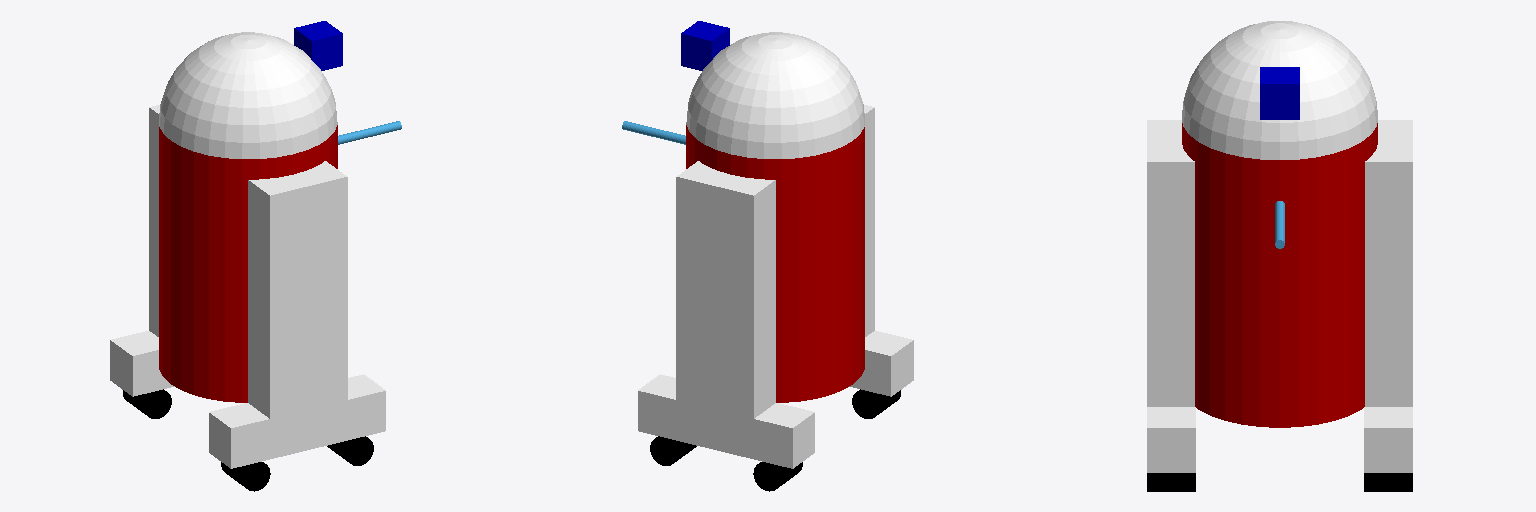
URDF robot description (visual):
<?xml version="1.0"?>
<robot name="visual">

<material name="blue">
    <color rgba="0 0 0.8 1"/>
  </material>
  <material name="black">
    <color rgba="0 0 0 1"/>
  </material>
  <material name="white">
    <color rgba="1 1 1 1"/>
  </material>
<material name="red">
    <color rgba="0.8 0 0 1"/>
  </material>
  <link name="base_link">
    <visual>
      <geometry>
        <cylinder length="0.6" radius="0.2"/>
      </geometry>
      <material name="red"/>
    </visual>
  </link>

  <link name="right_leg">
    <visual>
      <geometry>
        <box size="0.6 0.1 0.2"/>
      </geometry>
      <origin rpy="0 1.57075 0" xyz="0 0 -0.3"/>
      <material name="white"/>
    </visual>
  </link>

  <joint name="base_to_right_leg" type="fixed">
    <parent link="base_link"/>
    <child link="right_leg"/>
    <origin xyz="0 -0.22 0.25"/>
  </joint>

  <link name="right_base">
    <visual>
      <geometry>
        <box size="0.4 0.1 0.1"/>
      </geometry>
      <material name="white"/>
    </visual>
  </link>

  <joint name="right_base_joint" type="fixed">
    <parent link="right_leg"/>
    <child link="right_base"/>
    <origin xyz="0 0 -0.6"/>
  </joint>

  <link name="right_front_wheel">
    <visual>
      <origin rpy="1.57075 0 0" xyz="0 0 0"/>
      <geometry>
        <cylinder length="0.1" radius="0.035"/>
      </geometry>
      <material name="black"/>
    </visual>
  </link>
  <joint name="right_front_wheel_joint" type="continuous">
    <axis rpy="0 0 0" xyz="0 1 0"/>
    <parent link="right_base"/>
    <child link="right_front_wheel"/>
    <origin rpy="0 0 0" xyz="0.133333333333 0 -0.085"/>
  </joint>

  <link name="right_back_wheel">
    <visual>
      <origin rpy="1.57075 0 0" xyz="0 0 0"/>
      <geometry>
        <cylinder length="0.1" radius="0.035"/>
      </geometry>
      <material name="black"/>
    </visual>
  </link>
  <joint name="right_back_wheel_joint" type="continuous">
    <axis rpy="0 0 0" xyz="0 1 0"/>
    <parent link="right_base"/>
    <child link="right_back_wheel"/>
    <origin rpy="0 0 0" xyz="-0.133333333333 0 -0.085"/>
  </joint>

  <link name="left_leg">
    <visual>
      <geometry>
        <box size="0.6 0.1 0.2"/>
      </geometry>
      <origin rpy="0 1.57075 0" xyz="0 0 -0.3"/>
      <material name="white"/>
    </visual>
  </link>

  <joint name="base_to_left_leg" type="fixed">
    <parent link="base_link"/>
    <child link="left_leg"/>
    <origin xyz="0 0.22 0.25"/>
  </joint>

  <link name="left_base">
    <visual>
      <geometry>
        <box size="0.4 0.1 0.1"/>
      </geometry>
      <material name="white"/>
    </visual>
  </link>

  <joint name="left_base_joint" type="fixed">
    <parent link="left_leg"/>
    <child link="left_base"/>
    <origin xyz="0 0 -0.6"/>
  </joint>

  <link name="left_front_wheel">
    <visual>
      <origin rpy="1.57075 0 0" xyz="0 0 0"/>
      <geometry>
        <cylinder length="0.1" radius="0.035"/>
      </geometry>
      <material name="black"/>
    </visual>
  </link>
  <joint name="left_front_wheel_joint" type="continuous">
    <axis rpy="0 0 0" xyz="0 1 0"/>
    <parent link="left_base"/>
    <child link="left_front_wheel"/>
    <origin rpy="0 0 0" xyz="0.133333333333 0 -0.085"/>
  </joint>

  <link name="left_back_wheel">
    <visual>
      <origin rpy="1.57075 0 0" xyz="0 0 0"/>
      <geometry>
        <cylinder length="0.1" radius="0.035"/>
      </geometry>
      <material name="black"/>
    </visual>
  </link>
  <joint name="left_back_wheel_joint" type="continuous">
    <axis rpy="0 0 0" xyz="0 1 0"/>
    <parent link="left_base"/>
    <child link="left_back_wheel"/>
    <origin rpy="0 0 0" xyz="-0.133333333333 0 -0.085"/>
  </joint>

  <joint name="gripper_extension" type="prismatic">
    <parent link="base_link"/>
    <child link="gripper_pole"/>
    <limit effort="1000.0" lower="-0.38" upper="0" velocity="0.5"/>
    <origin rpy="0 0 0" xyz="0.19 0 0.2"/>
  </joint>

  <link name="gripper_pole">
    <visual>
      <geometry>
        <cylinder length="0.2" radius="0.01"/>
      </geometry>
      <origin rpy="0 1.57075 0 " xyz="0.1 0 0"/>
    </visual>
  </link>

  <joint name="left_gripper_joint" type="revolute">
    <axis xyz="0 0 1"/>
    <limit effort="1000.0" lower="0.0" upper="0.548" velocity="0.5"/>
    <origin rpy="0 0 0" xyz="0.2 0.01 0"/>
    <parent link="gripper_pole"/>
    <child link="left_gripper"/>
  </joint>

  <link name="left_gripper">
    <visual>
      <origin rpy="0.0 0 0" xyz="0 0 0"/>
      <geometry>
        <mesh filename="package://urdf_tutorial/meshes/l_finger.dae"/>
      </geometry>
    </visual>
  </link>

  <joint name="left_tip_joint" type="fixed">
    <parent link="left_gripper"/>
    <child link="left_tip"/>
  </joint>

  <link name="left_tip">
    <visual>
      <origin rpy="0.0 0 0" xyz="0.09137 0.00495 0"/>
      <geometry>
        <mesh filename="package://urdf_tutorial/meshes/l_finger_tip.dae"/>
      </geometry>
    </visual>
  </link>
  <joint name="right_gripper_joint" type="revolute">
    <axis xyz="0 0 -1"/>
    <limit effort="1000.0" lower="0.0" upper="0.548" velocity="0.5"/>
    <origin rpy="0 0 0" xyz="0.2 -0.01 0"/>
    <parent link="gripper_pole"/>
    <child link="right_gripper"/>
  </joint>

  <link name="right_gripper">
    <visual>
      <origin rpy="-3.1415 0 0" xyz="0 0 0"/>
      <geometry>
        <mesh filename="package://urdf_tutorial/meshes/l_finger.dae"/>
      </geometry>
    </visual>
  </link>

  <joint name="right_tip_joint" type="fixed">
    <parent link="right_gripper"/>
    <child link="right_tip"/>
  </joint>

  <link name="right_tip">
    <visual>
      <origin rpy="-3.1415 0 0" xyz="0.09137 0.00495 0"/>
      <geometry>
        <mesh filename="package://urdf_tutorial/meshes/l_finger_tip.dae"/>
      </geometry>
    </visual>
  </link>

  <link name="head">
    <visual>
      <geometry>
        <sphere radius="0.2"/>
      </geometry>
      <material name="white"/>
    </visual>
  </link>
  <joint name="head_swivel" type="continuous">
    <parent link="base_link"/>
    <child link="head"/>
    <axis xyz="0 0 1"/>
    <origin xyz="0 0 0.3"/>
  </joint>

  <link name="box">
    <visual>
      <geometry>
        <box size="0.08 0.08 0.08"/>
      </geometry>
      <material name="blue"/>
    </visual>
  </link>

  <joint name="tobox" type="fixed">
    <parent link="head"/>
    <child link="box"/>
    <origin xyz="0.1814 0 0.1414"/>
  </joint>
</robot>

--- Render facts (derived) ---
3 views of the same robot in one strip: view 1: azimuth 30°, elevation 25°; view 2: azimuth 150°, elevation 25°; view 3: azimuth 270°, elevation 25° (orthographic).
Robot: visual — 16 links, 15 joints (2 revolute, 5 continuous, 1 prismatic, 7 fixed); root link base_link; default pose: all joints at 0.
Links seen in each view (by area): view 1: right_leg, base_link, head, right_base, left_base, left_leg, box, right_back_wheel, left_back_wheel, right_front_wheel, gripper_pole; view 2: left_leg, base_link, head, left_base, right_base, right_leg, box, left_back_wheel, right_back_wheel, left_front_wheel, gripper_pole; view 3: base_link, head, right_leg, left_leg, right_base, left_base, box, right_front_wheel, left_front_wheel.
Boxes of the visible links, box(x1,y1,x2,y2) form: right_leg: box(248, 161, 347, 438); base_link: box(159, 125, 337, 402); head: box(159, 32, 337, 158); right_base: box(209, 374, 385, 468); left_base: box(110, 331, 174, 396); left_leg: box(149, 105, 159, 336); box: box(294, 21, 342, 70); right_back_wheel: box(221, 462, 270, 491); left_back_wheel: box(123, 389, 171, 418); right_front_wheel: box(327, 436, 373, 465); gripper_pole: box(338, 121, 401, 144); left_leg: box(676, 161, 775, 438); base_link: box(686, 125, 864, 402); head: box(686, 32, 864, 158); left_base: box(638, 374, 814, 468); right_base: box(849, 331, 913, 396); right_leg: box(864, 105, 874, 336); box: box(681, 21, 729, 70); left_back_wheel: box(753, 462, 802, 491); right_back_wheel: box(852, 389, 900, 418); left_front_wheel: box(650, 436, 696, 465); gripper_pole: box(622, 121, 685, 144); base_link: box(1182, 123, 1377, 427); head: box(1182, 21, 1377, 159); right_leg: box(1147, 120, 1194, 406); left_leg: box(1365, 120, 1412, 406); right_base: box(1147, 407, 1195, 472); left_base: box(1364, 407, 1412, 472); box: box(1260, 67, 1299, 119); right_front_wheel: box(1147, 473, 1195, 491); left_front_wheel: box(1364, 473, 1412, 491).
Bounding box of the posed robot: 0.59 × 0.54 × 0.97 m (x, y, z).
0 mesh visuals loaded from 2 distinct referenced files (none loaded); not drawn: 4 (reference not matched to a file when rendering).
